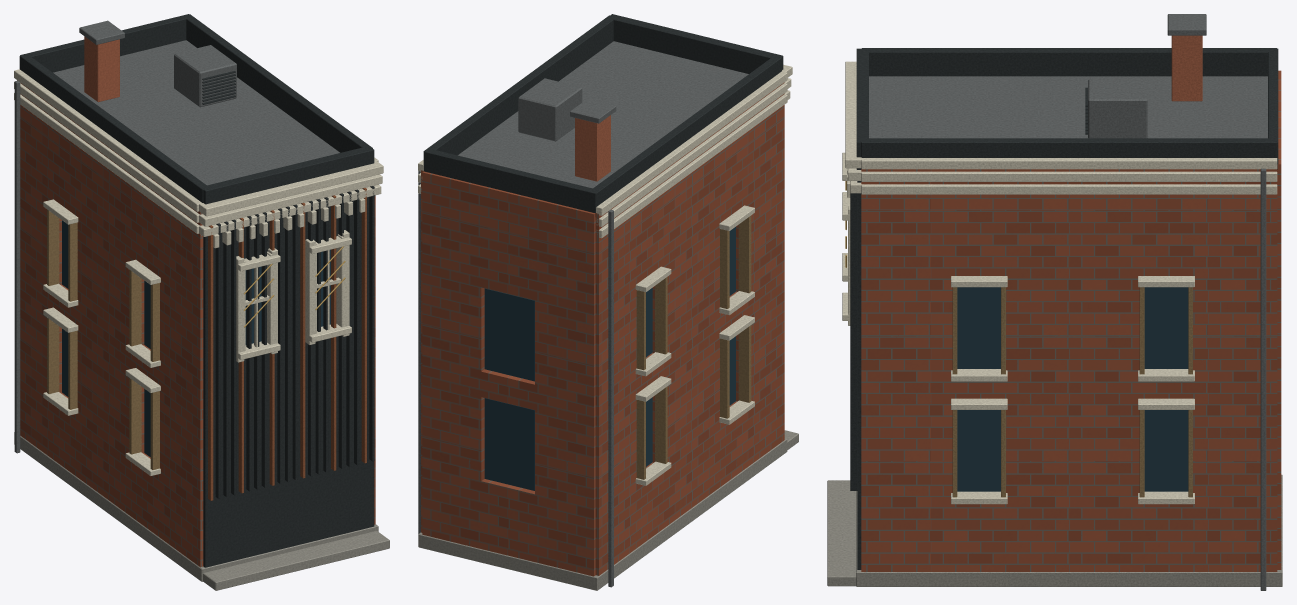
Rendered from WHSE14_lod1.glb.
3 renders of one model, left to right at view 1: azimuth 30°, elevation 25°; view 2: azimuth 150°, elevation 25°; view 3: azimuth 270°, elevation 25°, orthographic. The views are drawn at different scales.
Visible parts, largest first — view 1: WHSE14_LOD1; view 2: WHSE14_LOD1; view 3: WHSE14_LOD1.
Part boxes in pixels (x1,y1,x2,y2): WHSE14_LOD1: (14, 14, 389, 590); WHSE14_LOD1: (418, 14, 798, 590); WHSE14_LOD1: (827, 14, 1282, 590).
Bounding box in the file's own units: 3.71 × 7.85 × 6.57.
11 materials, 8 textured.
